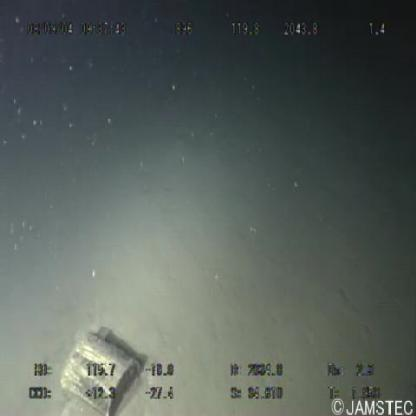Rác: (62, 333, 145, 411)
